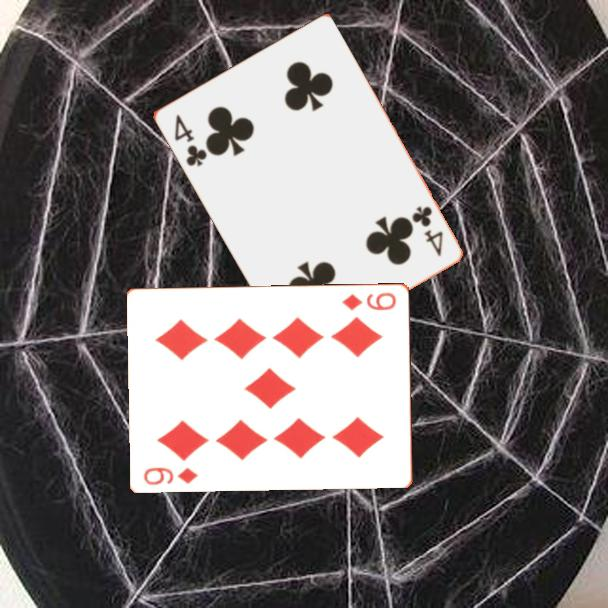c04: (170, 110, 210, 170), (408, 202, 446, 259)
d09: (140, 463, 201, 488), (339, 289, 399, 313)
